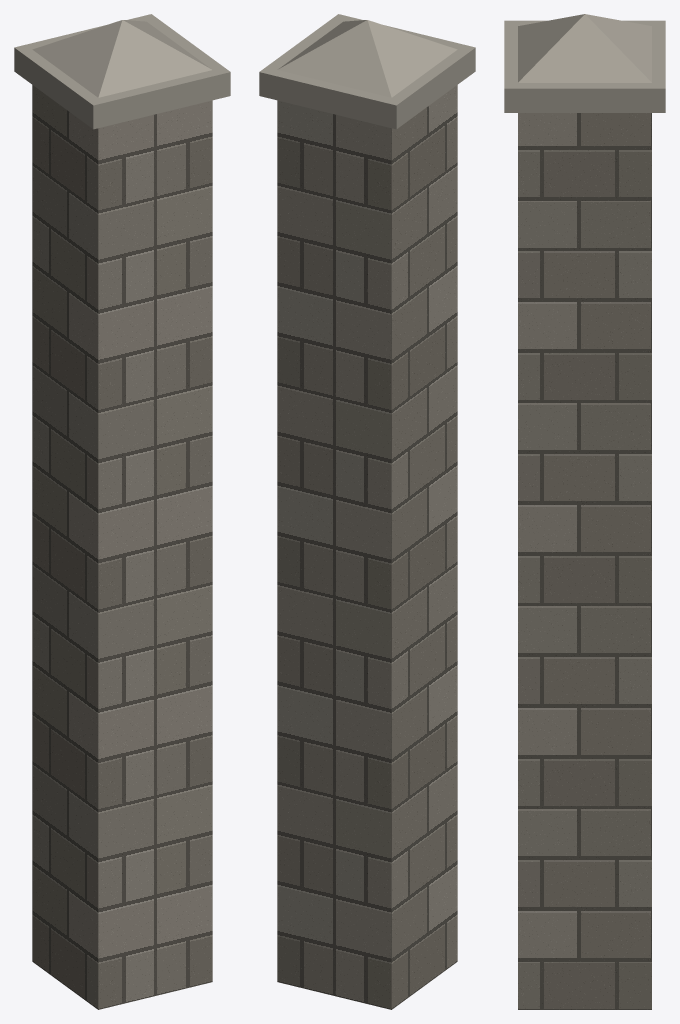
File: MinidoracatKnoxPass_gatepost_E.glb
3 renders of one model, left to right at view 1: azimuth 30°, elevation 25°; view 2: azimuth 150°, elevation 25°; view 3: azimuth 270°, elevation 25°, orthographic.
Visible parts, largest first — view 1: MinidoracatKnoxPass_gatepost_E; view 2: MinidoracatKnoxPass_gatepost_E; view 3: MinidoracatKnoxPass_gatepost_E.
Boxes of the visible parts, <box> form: MinidoracatKnoxPass_gatepost_E: <box>14,14,230,1009</box>; MinidoracatKnoxPass_gatepost_E: <box>259,14,475,1009</box>; MinidoracatKnoxPass_gatepost_E: <box>504,14,665,1009</box>.
Size of the model in its own units: 0.72 by 4.77 by 0.72.
1 material, 1 textured.
